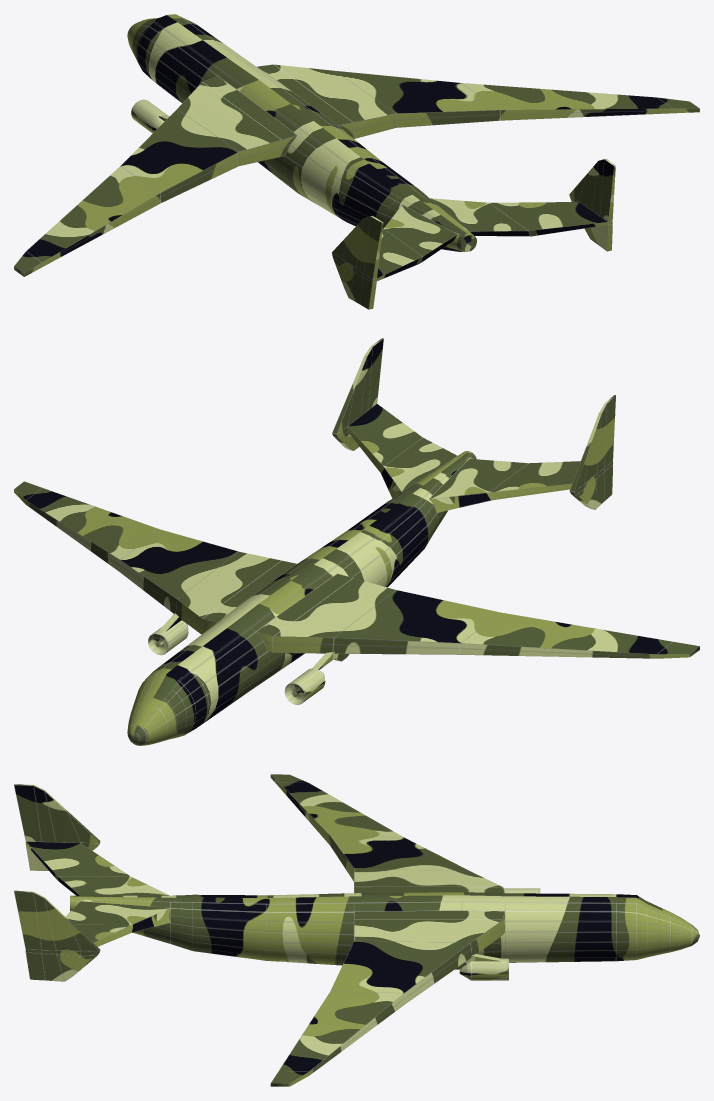
Rendered from low_airplane_bake.fbx.
3 views of the same model, one above another, from view 1: azimuth 30°, elevation 25°; view 2: azimuth 150°, elevation 25°; view 3: azimuth 270°, elevation 25° (orthographic). The views are drawn at different scales.
Visible parts, largest first — view 1: airplane_low_polySurface6; view 2: airplane_low_polySurface6; view 3: airplane_low_polySurface6.
Boxes of the visible parts, x1,y1,x2,y2 form: airplane_low_polySurface6: (14, 14, 699, 309); airplane_low_polySurface6: (14, 338, 699, 745); airplane_low_polySurface6: (14, 774, 699, 1086).
Size of the model in its own units: 6.45 by 1.22 by 6.05.
